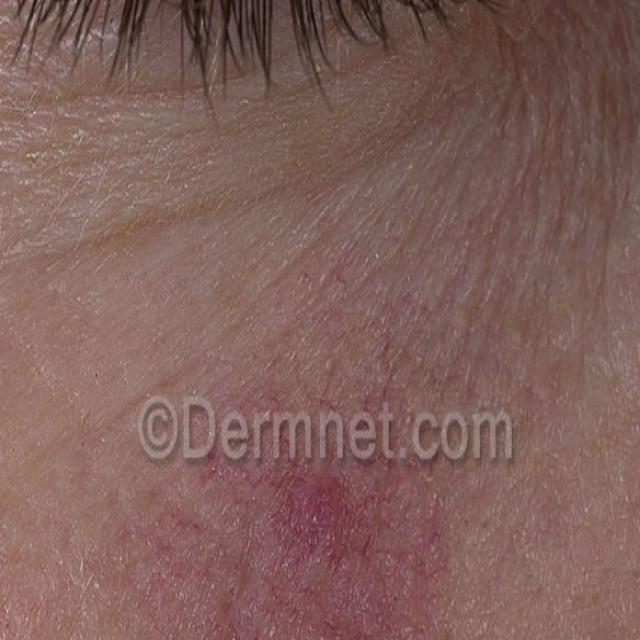Vascular Tumors: (132, 360, 470, 640)
